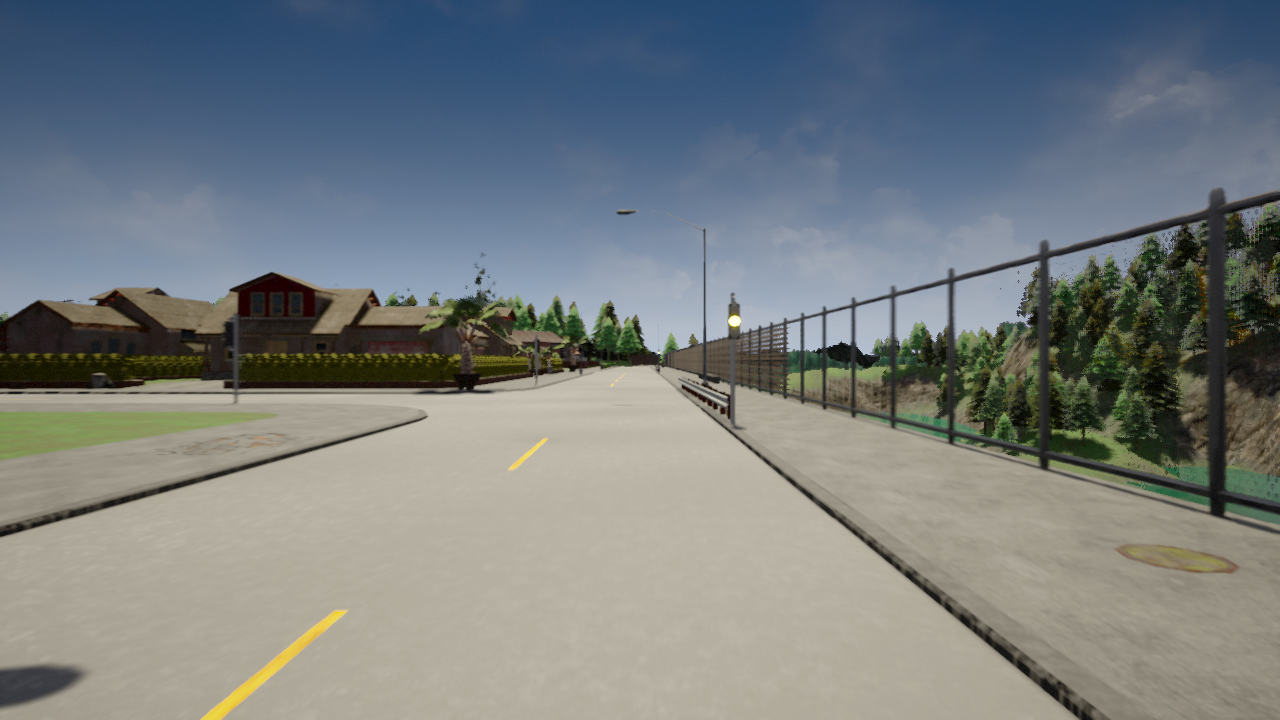yellow: (727, 302, 740, 338)
